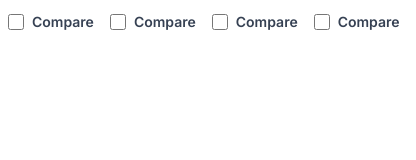
CompareToggle (051) › disables the other boxes when full and says why; the picked ones stay usable (052 review)
The width and height of the screenshot is (416, 160).
Click the 1st checkbox labelled "Compare": coordinates (16, 22) [8,14,24,30]
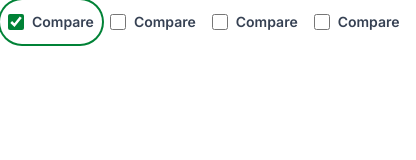
Click the 2nd checkbox labelled "Compare": coordinates (118, 22) [110,14,126,30]
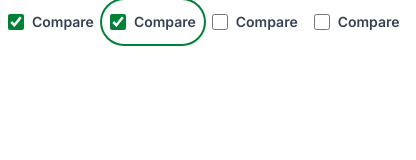
Click the 3rd checkbox labelled "Compare": coordinates (220, 22) [212,14,228,30]
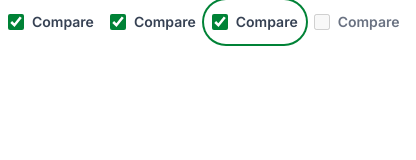
Now the 4th checkbox labelled "Compare" is disabled, box [314,14,330,30]
Click the 1st checkbox labelled "Compare": coordinates (16, 22) [8,14,24,30]
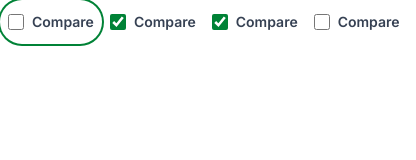
Now the 4th checkbox labelled "Compare" is enabled, box [314,14,330,30]
